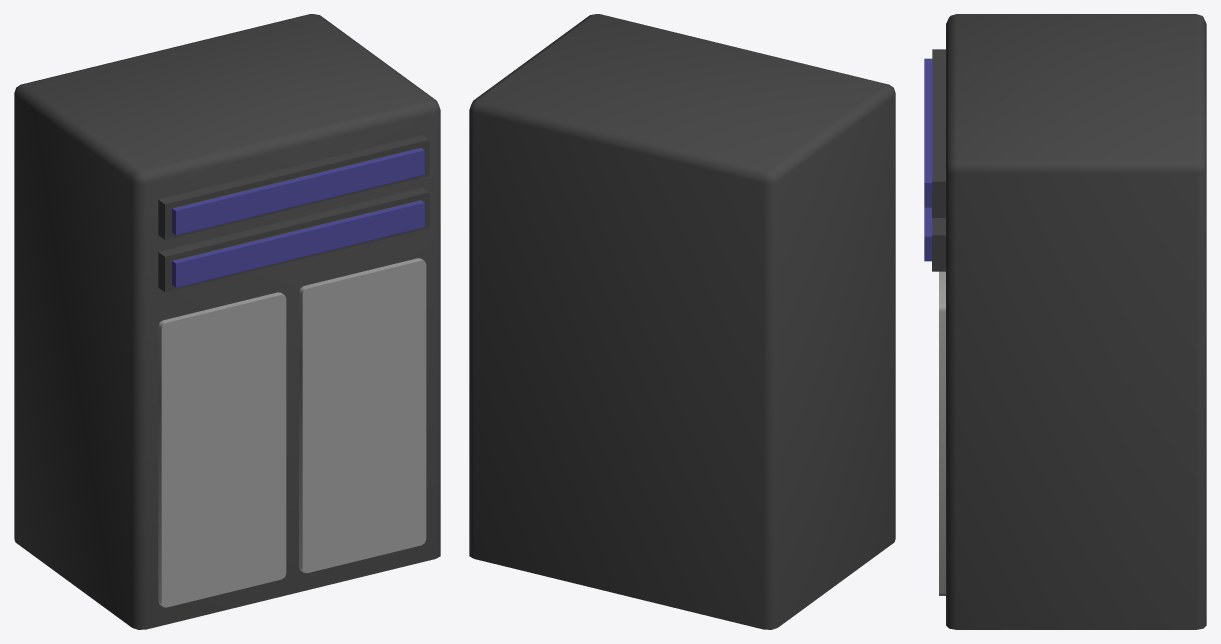
The model's file is generator1.fbx.
3 renders of one model, left to right at view 1: azimuth 30°, elevation 25°; view 2: azimuth 150°, elevation 25°; view 3: azimuth 270°, elevation 25°, orthographic. The views are drawn at different scales.
Parts seen in each view (by area): view 1: generator1; view 2: generator1; view 3: generator1.
Part boxes in pixels (x1=…): generator1: x1=14, y1=14, x2=440, y2=629; generator1: x1=469, y1=14, x2=895, y2=629; generator1: x1=924, y1=14, x2=1206, y2=629.
Size of the model in its own units: 200 by 283 by 155.
